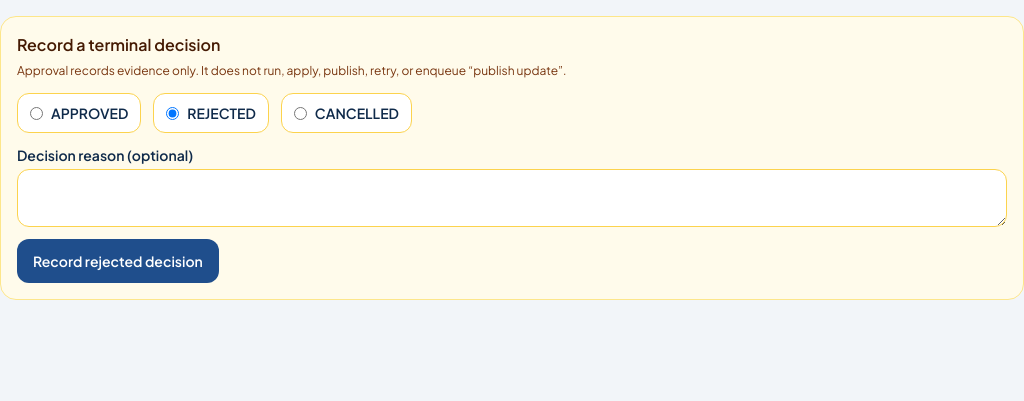
it: ApprovalDecisionForm › bounds approval-state recovery reads and returns control after the deadline
Click the button "Record rejected decision" at (118, 261), box [17,239,219,283]
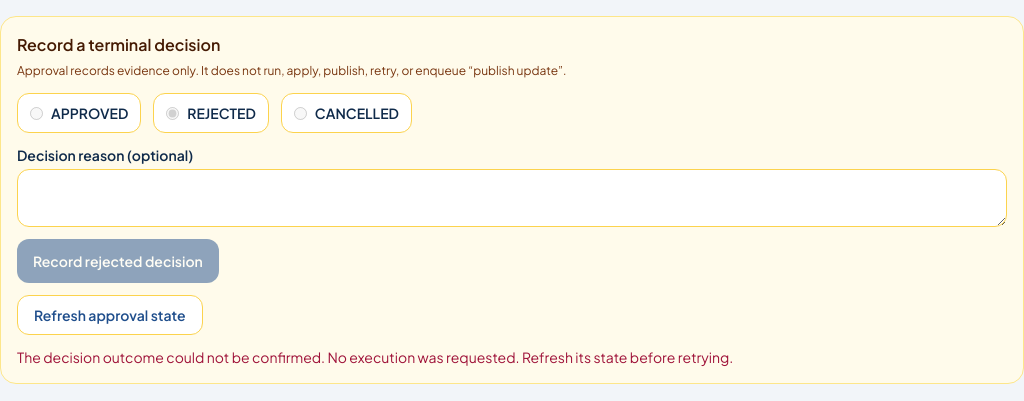
Click the button "Refresh approval state" at (110, 315), box [17,295,202,335]
Wait 15000 ms
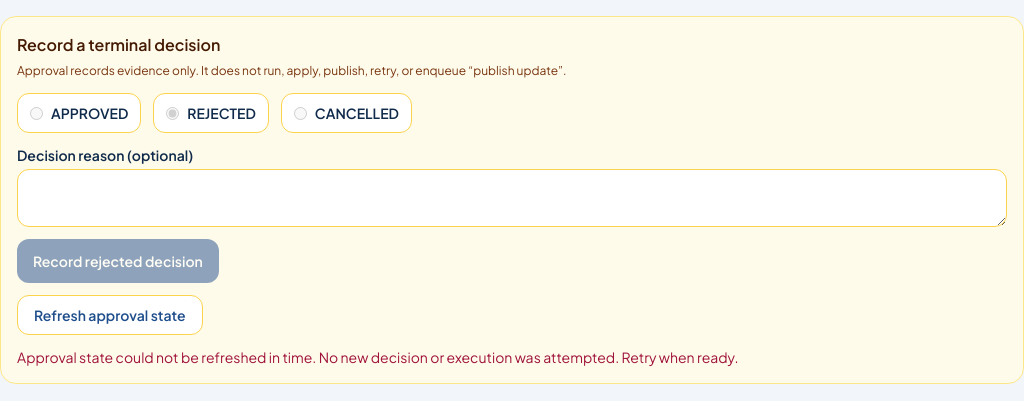
Result: the button "Refresh approval state" is enabled at [17,295,202,335]
Result: the message shows "Approval state could not be refreshed in time" at [17,348,738,366]
